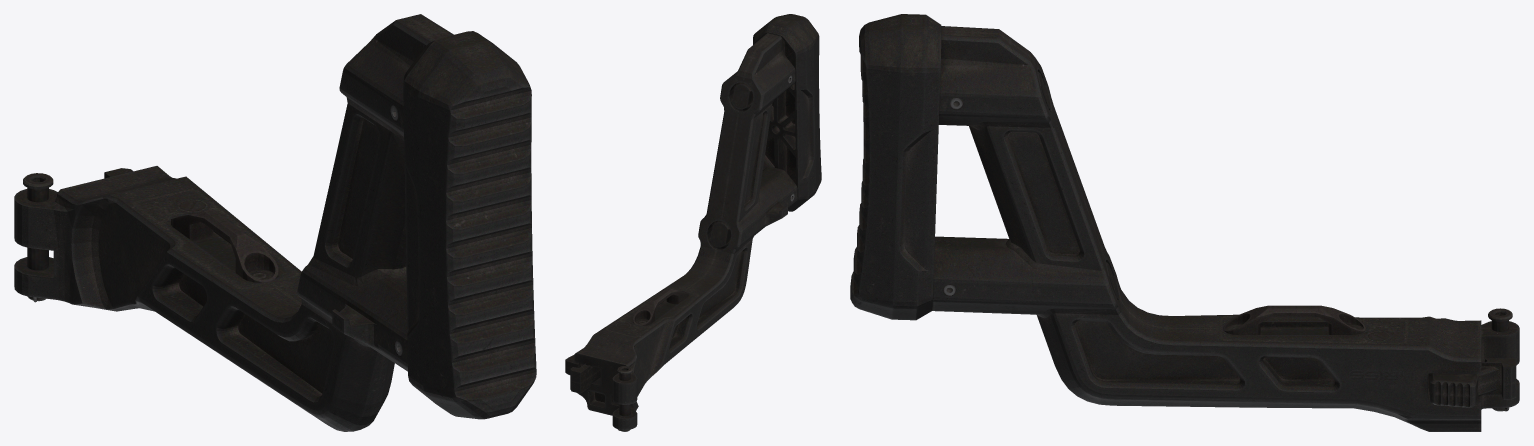
3 renders of one model, left to right at view 1: azimuth 30°, elevation 25°; view 2: azimuth 150°, elevation 25°; view 3: azimuth 270°, elevation 25°, orthographic. The views are drawn at different scales.
Visible parts, largest first — view 1: TW_5fb6558ad6f0b2136f2d7eb7_PZ_Import; view 2: TW_5fb6558ad6f0b2136f2d7eb7_PZ_Import; view 3: TW_5fb6558ad6f0b2136f2d7eb7_PZ_Import.
Part boxes in pixels (x1=…): TW_5fb6558ad6f0b2136f2d7eb7_PZ_Import: x1=14, y1=14, x2=536, y2=431; TW_5fb6558ad6f0b2136f2d7eb7_PZ_Import: x1=565, y1=14, x2=821, y2=431; TW_5fb6558ad6f0b2136f2d7eb7_PZ_Import: x1=850, y1=14, x2=1519, y2=431.
Size of the model in its own units: 0.031 by 0.1454 by 0.0986.
1 material, 1 textured.
